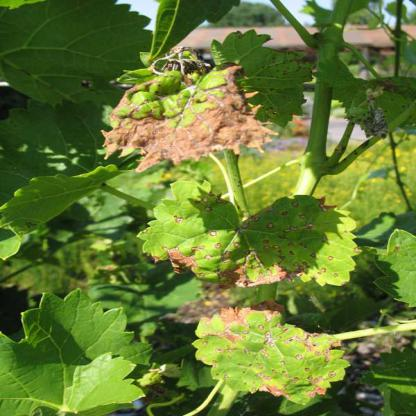grape leaf black rot: (137, 172, 360, 290), (87, 62, 272, 176), (189, 300, 363, 405), (222, 32, 316, 125)
